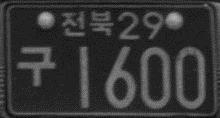0: (175, 45, 207, 109), (141, 47, 171, 110)
1: (75, 44, 92, 111)
2: (116, 10, 139, 40)
6: (104, 45, 136, 110)
9: (143, 10, 164, 39)
구: (16, 42, 56, 85)
전북_O: (61, 9, 114, 39)
